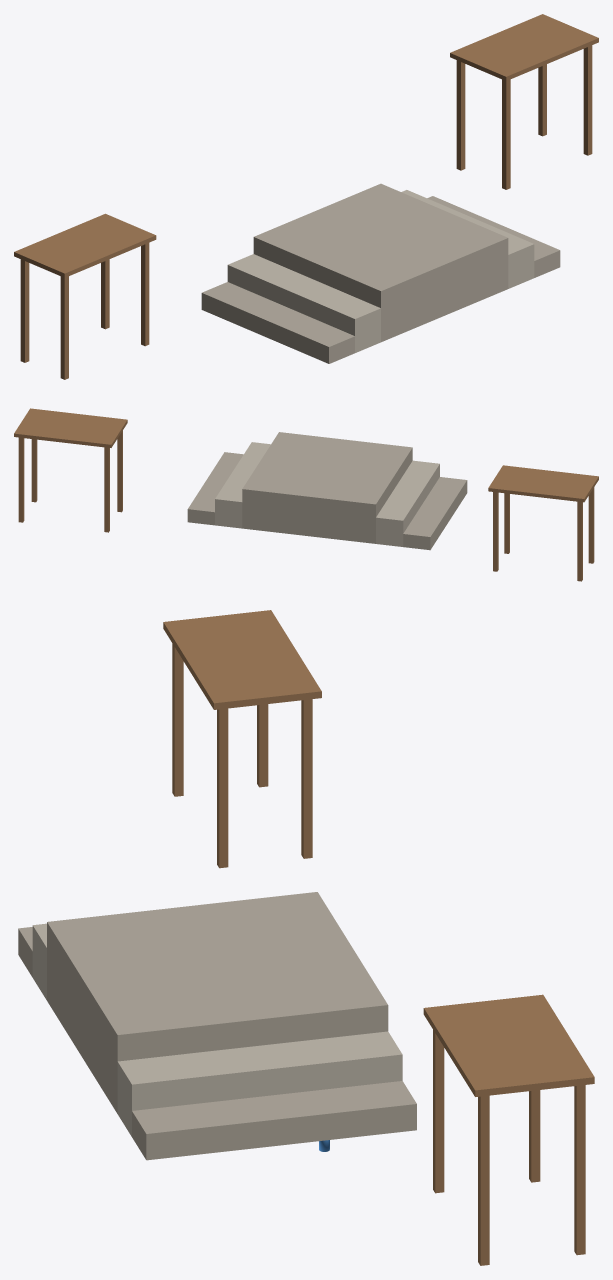
The model's file is h2_08_stairs_carry_props.glb.
3 renders of one model, top to bottom at view 1: azimuth 30°, elevation 25°; view 2: azimuth 150°, elevation 25°; view 3: azimuth 270°, elevation 25°, orthographic. The views are drawn at different scales.
Visible parts, largest first — view 1: s012, s013, s014, s000, s005, s011, s010, s001, s004, s009, s002, s007 (+3 smaller); view 2: s012, s000, s013, s005, s014, s011, s010, s003, s004, s007, s009, s008 (+3 smaller); view 3: s012, s011, s010, s000, s005, s001, s003, s006, s008, s002, s007, s004 (+2 smaller).
Boxes of the visible parts, x1,y1,x2,y2 form: s012: (253,183,508,342); s013: (227,254,380,352); s014: (201,282,354,363); s000: (450,14,598,80); s005: (14,213,156,277); s011: (401,190,534,288); s010: (427,196,560,277); s001: (583,45,592,155); s004: (456,60,465,170); s009: (20,259,29,362); s002: (502,79,510,189); s007: (60,276,68,379); s012: (242,432,412,543); s000: (14,408,127,447); s013: (376,460,439,546); s005: (488,465,598,502); s014: (403,477,467,550); s011: (215,442,270,528); s010: (187,452,243,525); s003: (18,437,24,522); s004: (104,447,109,532); s007: (588,487,594,563); s009: (577,501,582,581); s008: (493,492,498,571); s012: (47,892,388,1113); s011: (117,1031,402,1136); s010: (132,1081,416,1160); s000: (423,994,594,1096); s005: (163,610,321,709); s001: (478,1095,489,1265); s003: (574,1085,585,1255); s006: (217,708,228,868); s008: (301,699,312,858); s002: (433,1030,444,1193); s007: (172,643,183,796); s004: (529,1090,540,1182).
Bounding box in the file's own units: 6.25 × 1.16 × 3.1.
